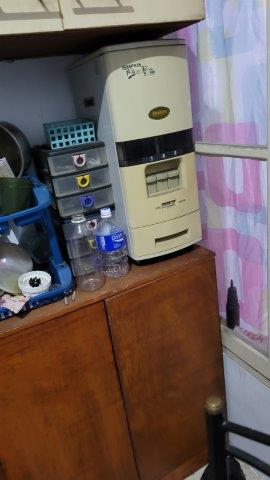botolplastik: (69, 212, 105, 291), (102, 209, 136, 273)
